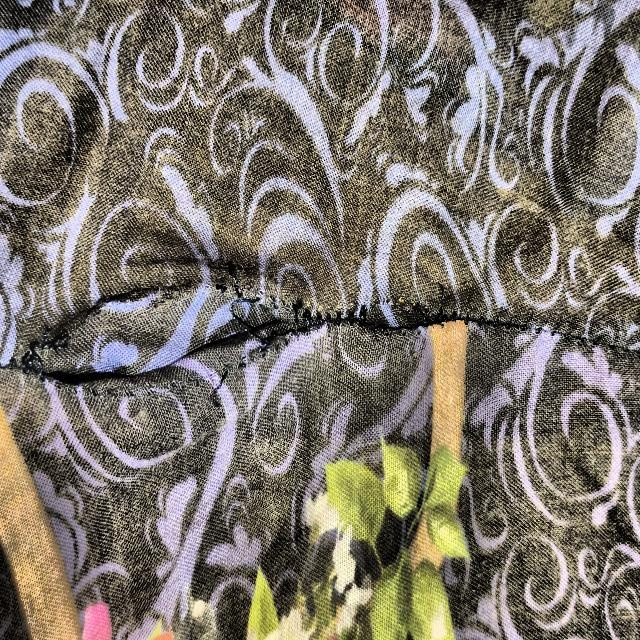seam: (0, 202, 501, 474), (159, 218, 505, 419)
